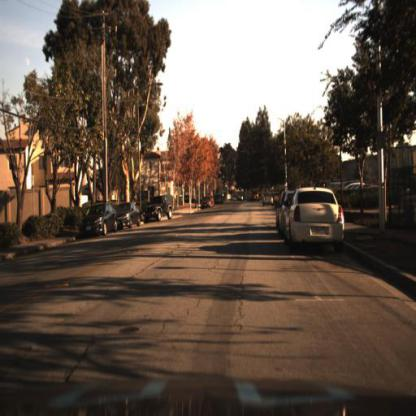car: (284, 185, 347, 248), (78, 202, 121, 237), (115, 198, 142, 235), (145, 194, 175, 223)
